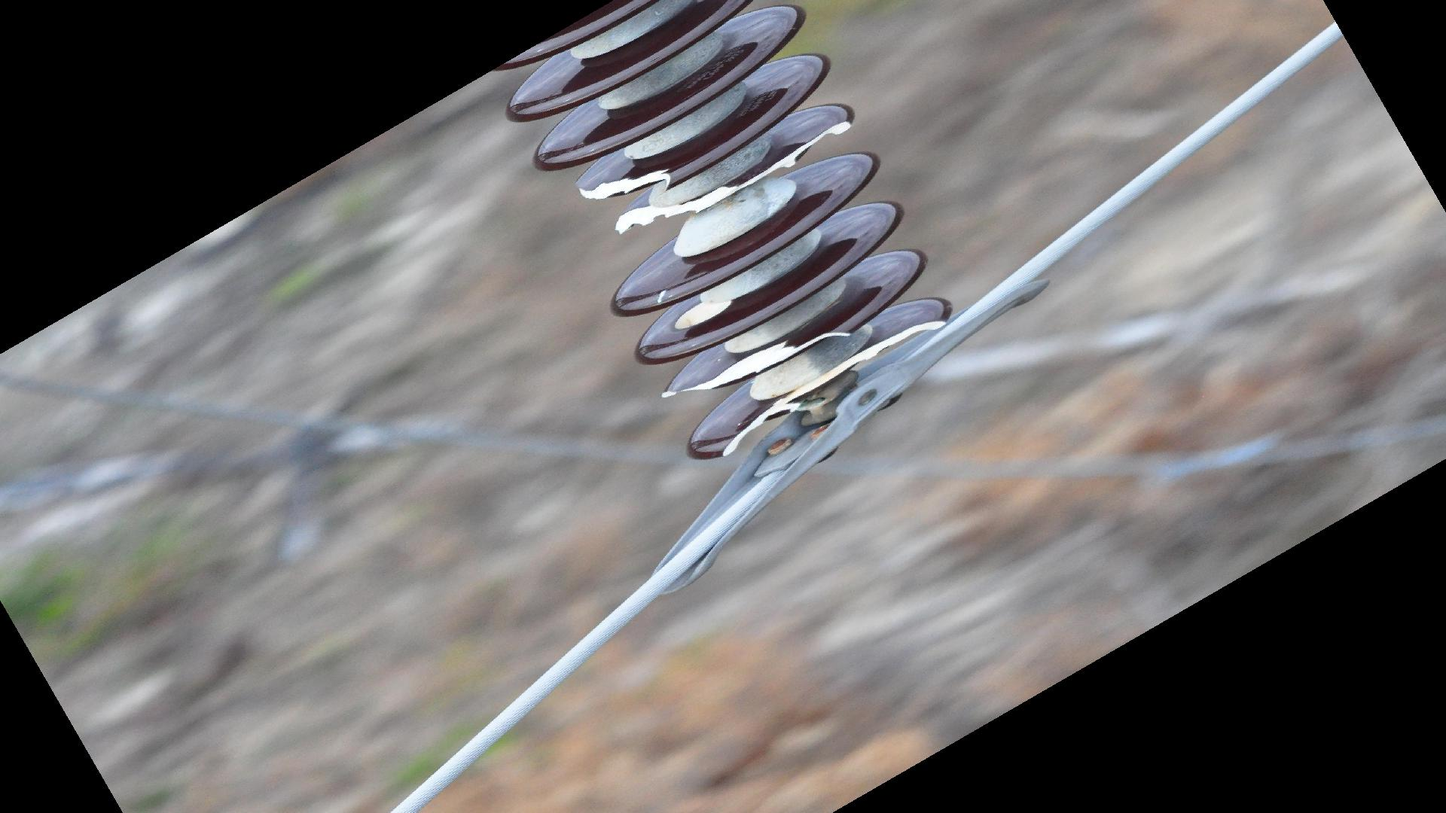insulator: (492, 1, 965, 469)
insulator_breakage: (713, 311, 956, 461), (606, 111, 857, 241), (655, 324, 856, 403), (569, 162, 678, 206)
